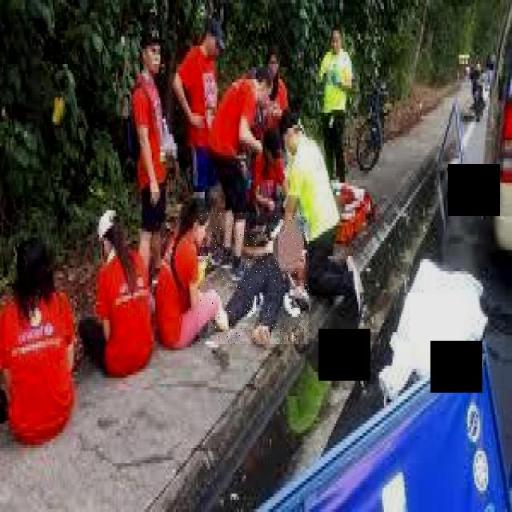Fall: (198, 214, 309, 345)
